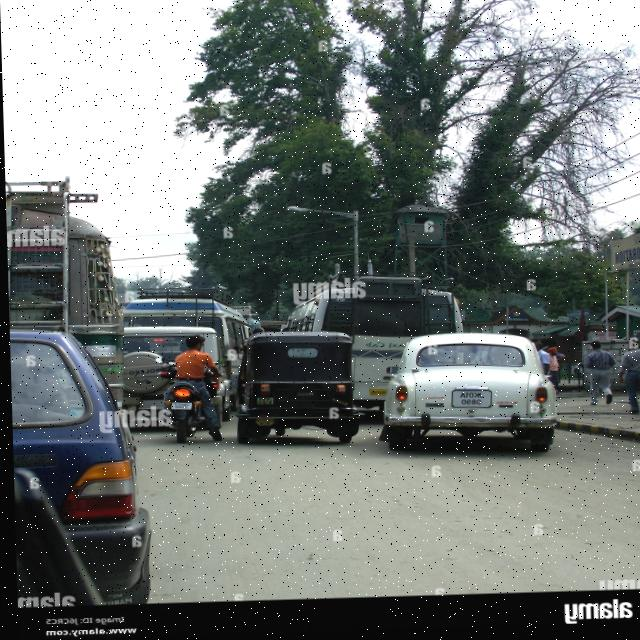plate: (445, 391, 492, 413), (166, 403, 191, 412), (251, 398, 273, 408)
